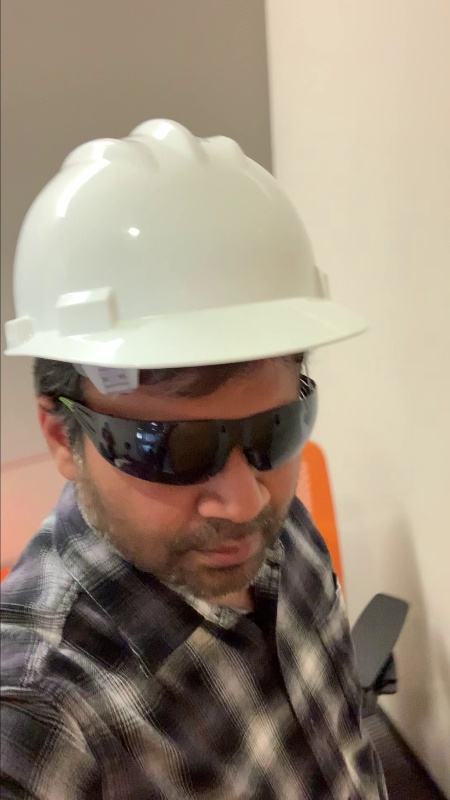glasses: (96, 403, 321, 476)
helmet: (16, 114, 341, 343)
